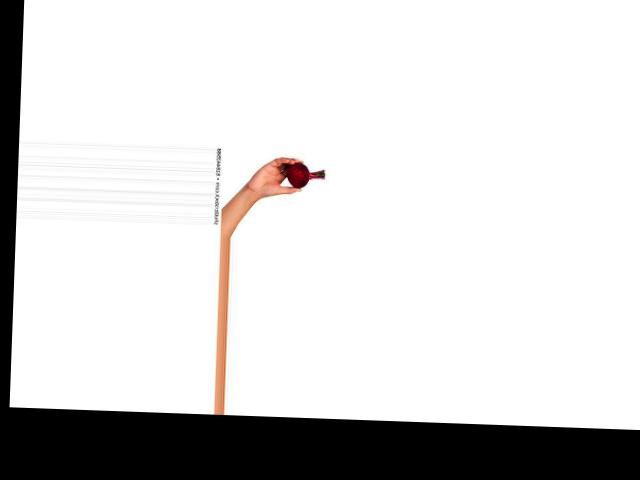beet: (287, 161, 325, 188)
